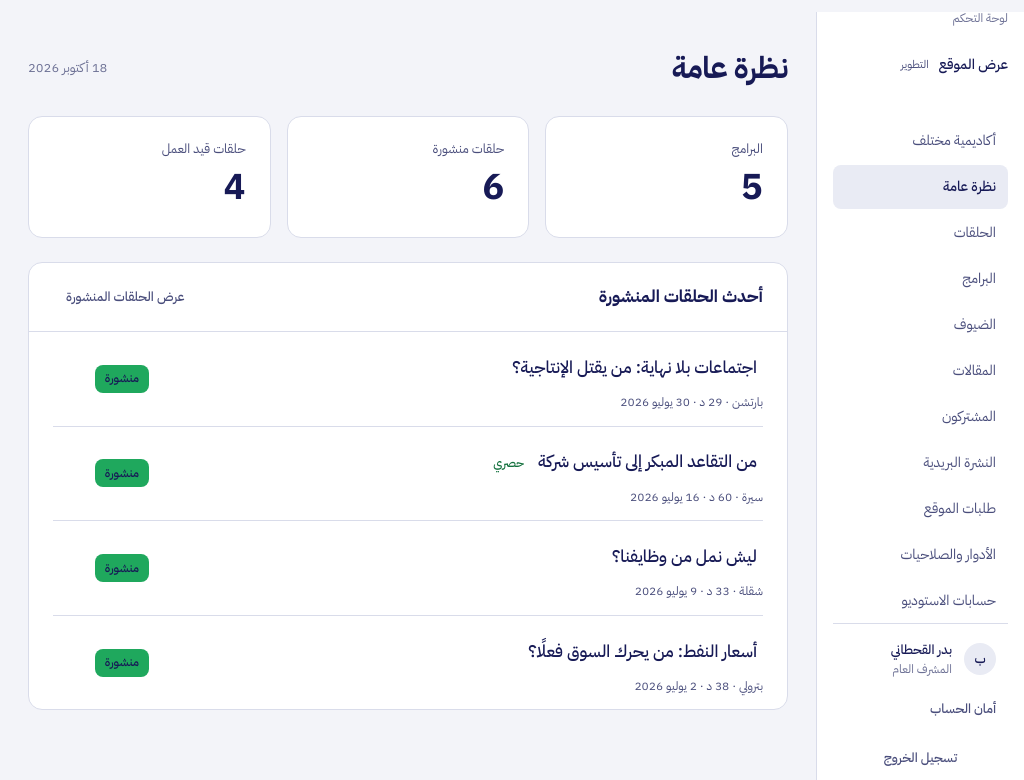
Scenario: admin auth routing › clears cached data on sign-out and returns to login
(page scrolled)
Expected: the heading "نظرة عامة" is shown, 672,46 -> 788,90
Click the button "تسجيل الخروج". click: click(920, 758)
box: 833,736 -> 1008,779
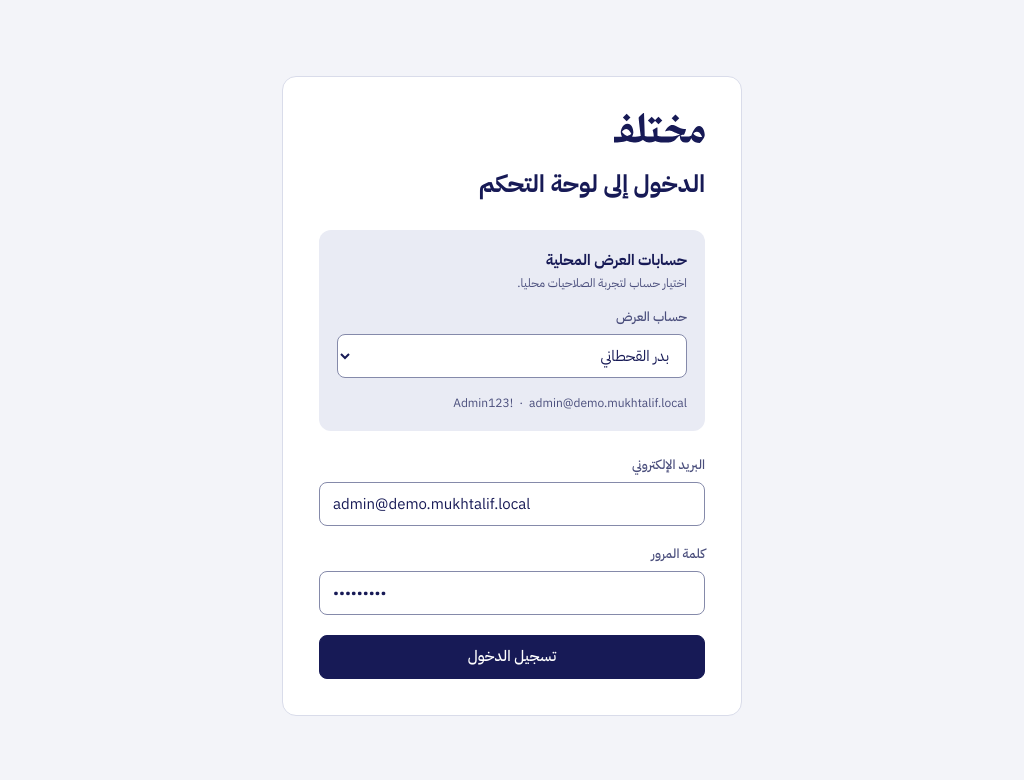
Expected: the heading "الدخول إلى لوحة التحكم" is shown, 479,167 -> 705,202
